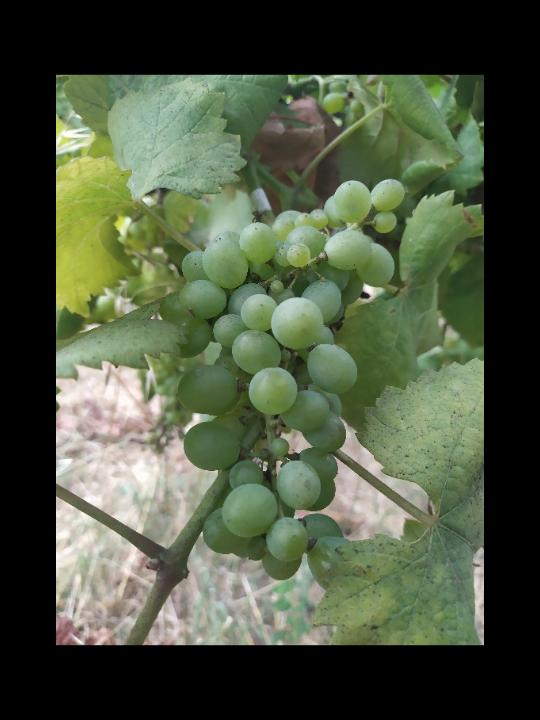grape: (158, 175, 407, 584)
